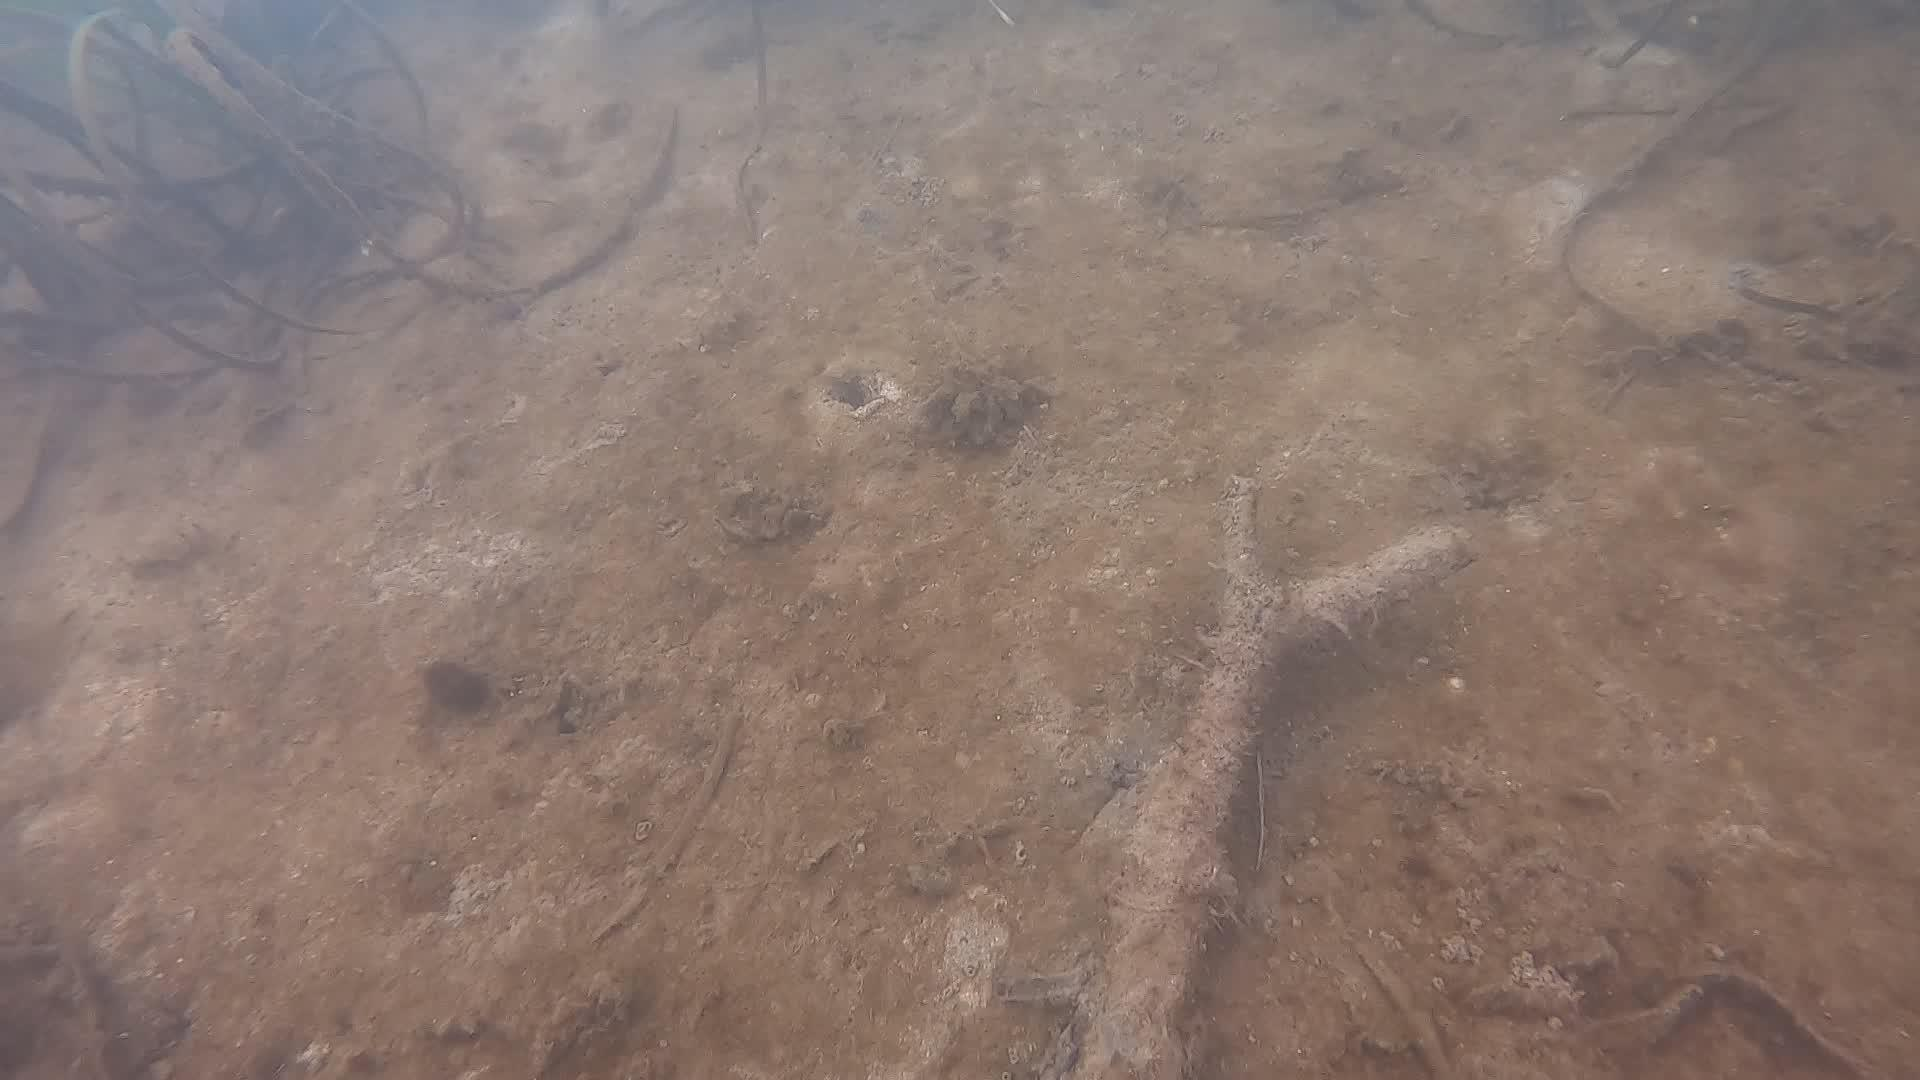wood: (1080, 475, 1476, 1080)
